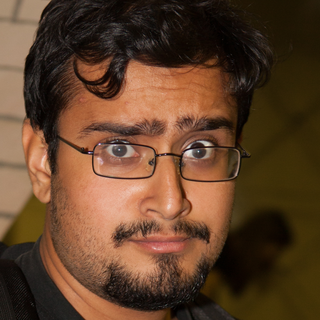eye: (181, 138, 223, 164), (99, 139, 144, 162)
